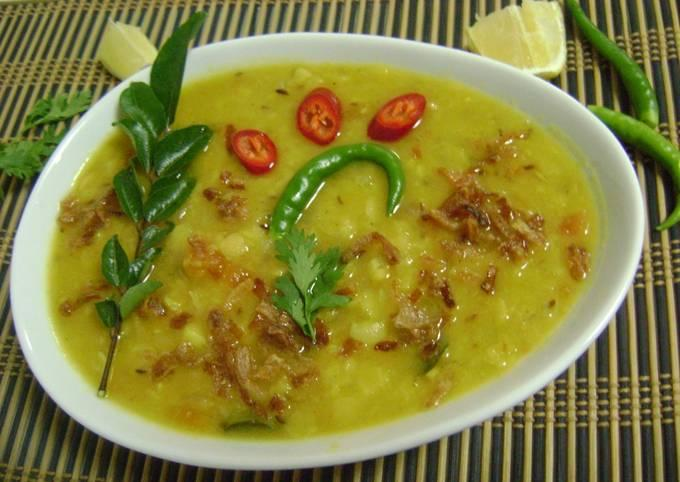varan: (73, 67, 574, 390)
